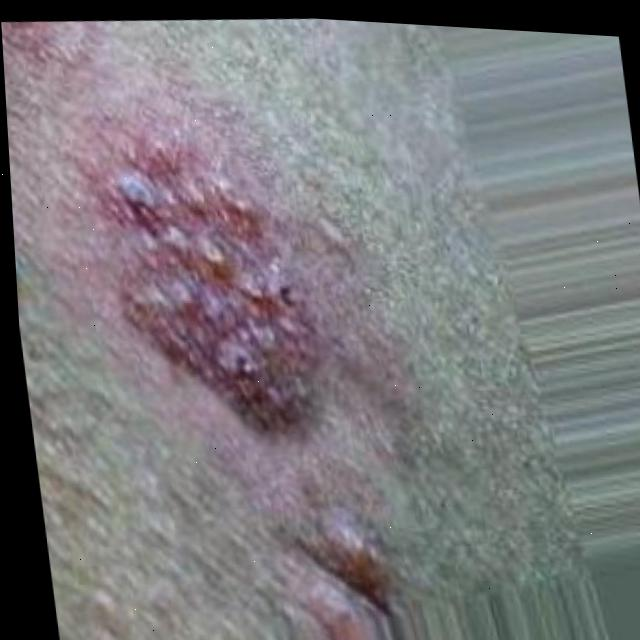Shingles: (119, 155, 309, 429), (305, 529, 391, 602)
